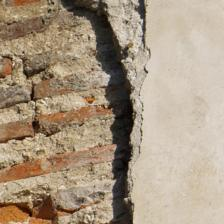Crack: (64, 3, 154, 222)
